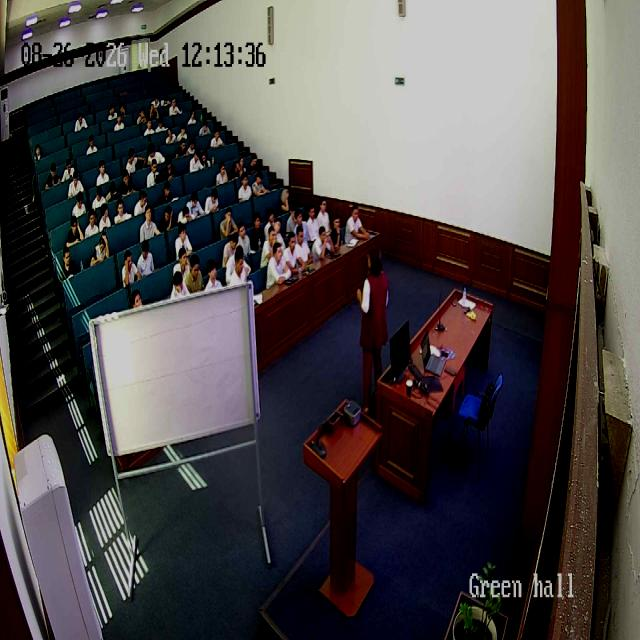person: (355, 248, 391, 413), (266, 243, 292, 289), (226, 245, 252, 287), (283, 229, 305, 273), (344, 204, 368, 243), (221, 232, 241, 277), (140, 204, 162, 243), (311, 225, 334, 262), (306, 199, 324, 245), (186, 255, 206, 295), (294, 226, 313, 268), (260, 225, 278, 268), (174, 221, 194, 259), (329, 212, 347, 254), (91, 230, 110, 268), (136, 241, 156, 277), (121, 250, 139, 290), (249, 212, 267, 252), (297, 207, 315, 245), (173, 248, 191, 284), (204, 260, 224, 292), (67, 214, 86, 247), (316, 198, 332, 236), (169, 270, 189, 300), (61, 244, 78, 279), (219, 208, 237, 240), (158, 204, 176, 236), (237, 220, 253, 255), (186, 192, 204, 220), (285, 206, 300, 239), (251, 171, 269, 198), (238, 172, 254, 202), (68, 167, 84, 197), (146, 159, 162, 189), (81, 127, 97, 157), (101, 180, 119, 206), (145, 141, 164, 164), (114, 204, 132, 228), (203, 190, 219, 216), (189, 146, 205, 172), (98, 204, 112, 232), (96, 159, 110, 187), (126, 148, 140, 176), (278, 188, 293, 214), (134, 189, 148, 216), (46, 164, 60, 191), (72, 194, 86, 220), (118, 167, 132, 193), (73, 110, 88, 133), (162, 155, 174, 182), (210, 127, 224, 149), (216, 162, 228, 186), (30, 142, 42, 166), (114, 112, 126, 136), (91, 186, 104, 208), (61, 160, 75, 180), (177, 137, 188, 161), (162, 180, 174, 202), (136, 104, 148, 124), (248, 151, 260, 171), (166, 122, 176, 145), (153, 116, 167, 132), (185, 136, 196, 156), (145, 116, 154, 138), (237, 156, 246, 178), (198, 120, 210, 136), (170, 93, 177, 119), (149, 90, 160, 106), (177, 124, 187, 140), (118, 101, 127, 118), (186, 109, 195, 125), (231, 162, 239, 180), (161, 93, 169, 107), (109, 103, 116, 117)
